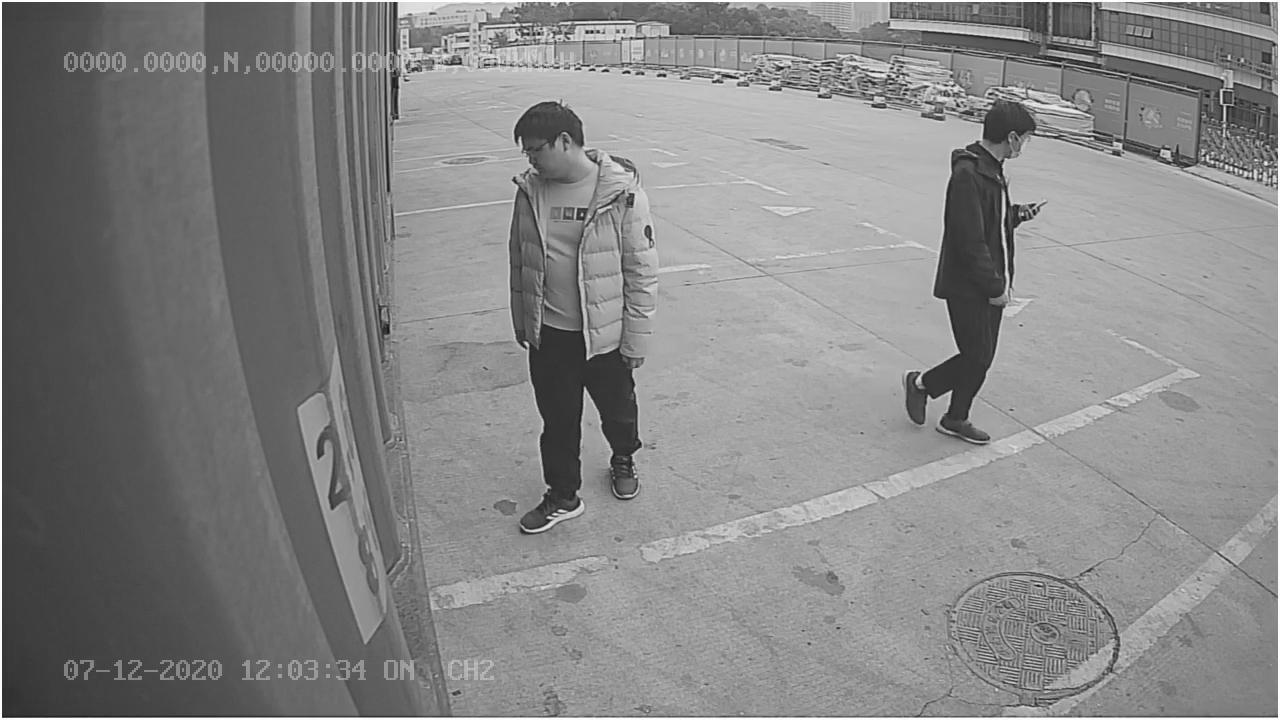person: (486, 97, 663, 533), (898, 83, 1045, 448)
